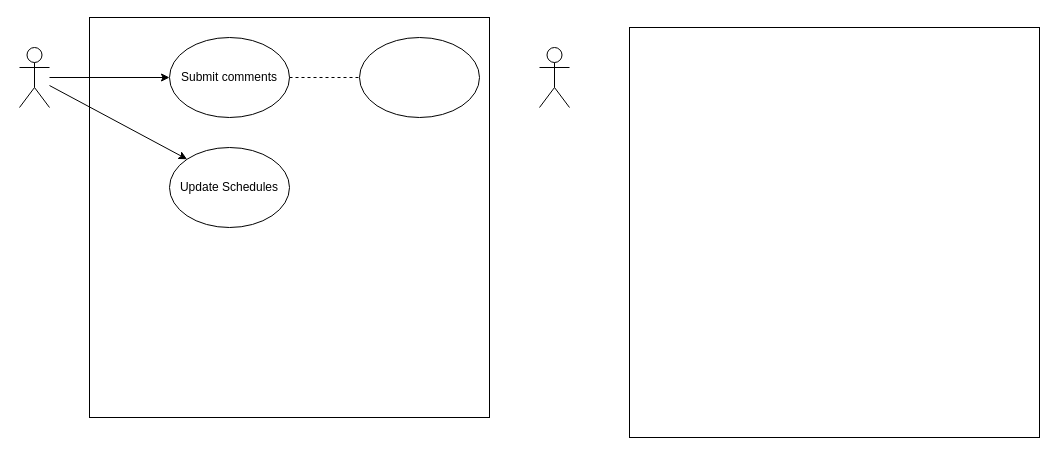
Some shapes in this 1057 by 455 pixel diagram are drawn without their labels. The shapes that lost their labels are listed below. From the top down, each one's box as (x1, y1, x2, y2) in pixels, then its label:
(18, 46, 50, 108): Tutors
(538, 46, 570, 108): Actor
